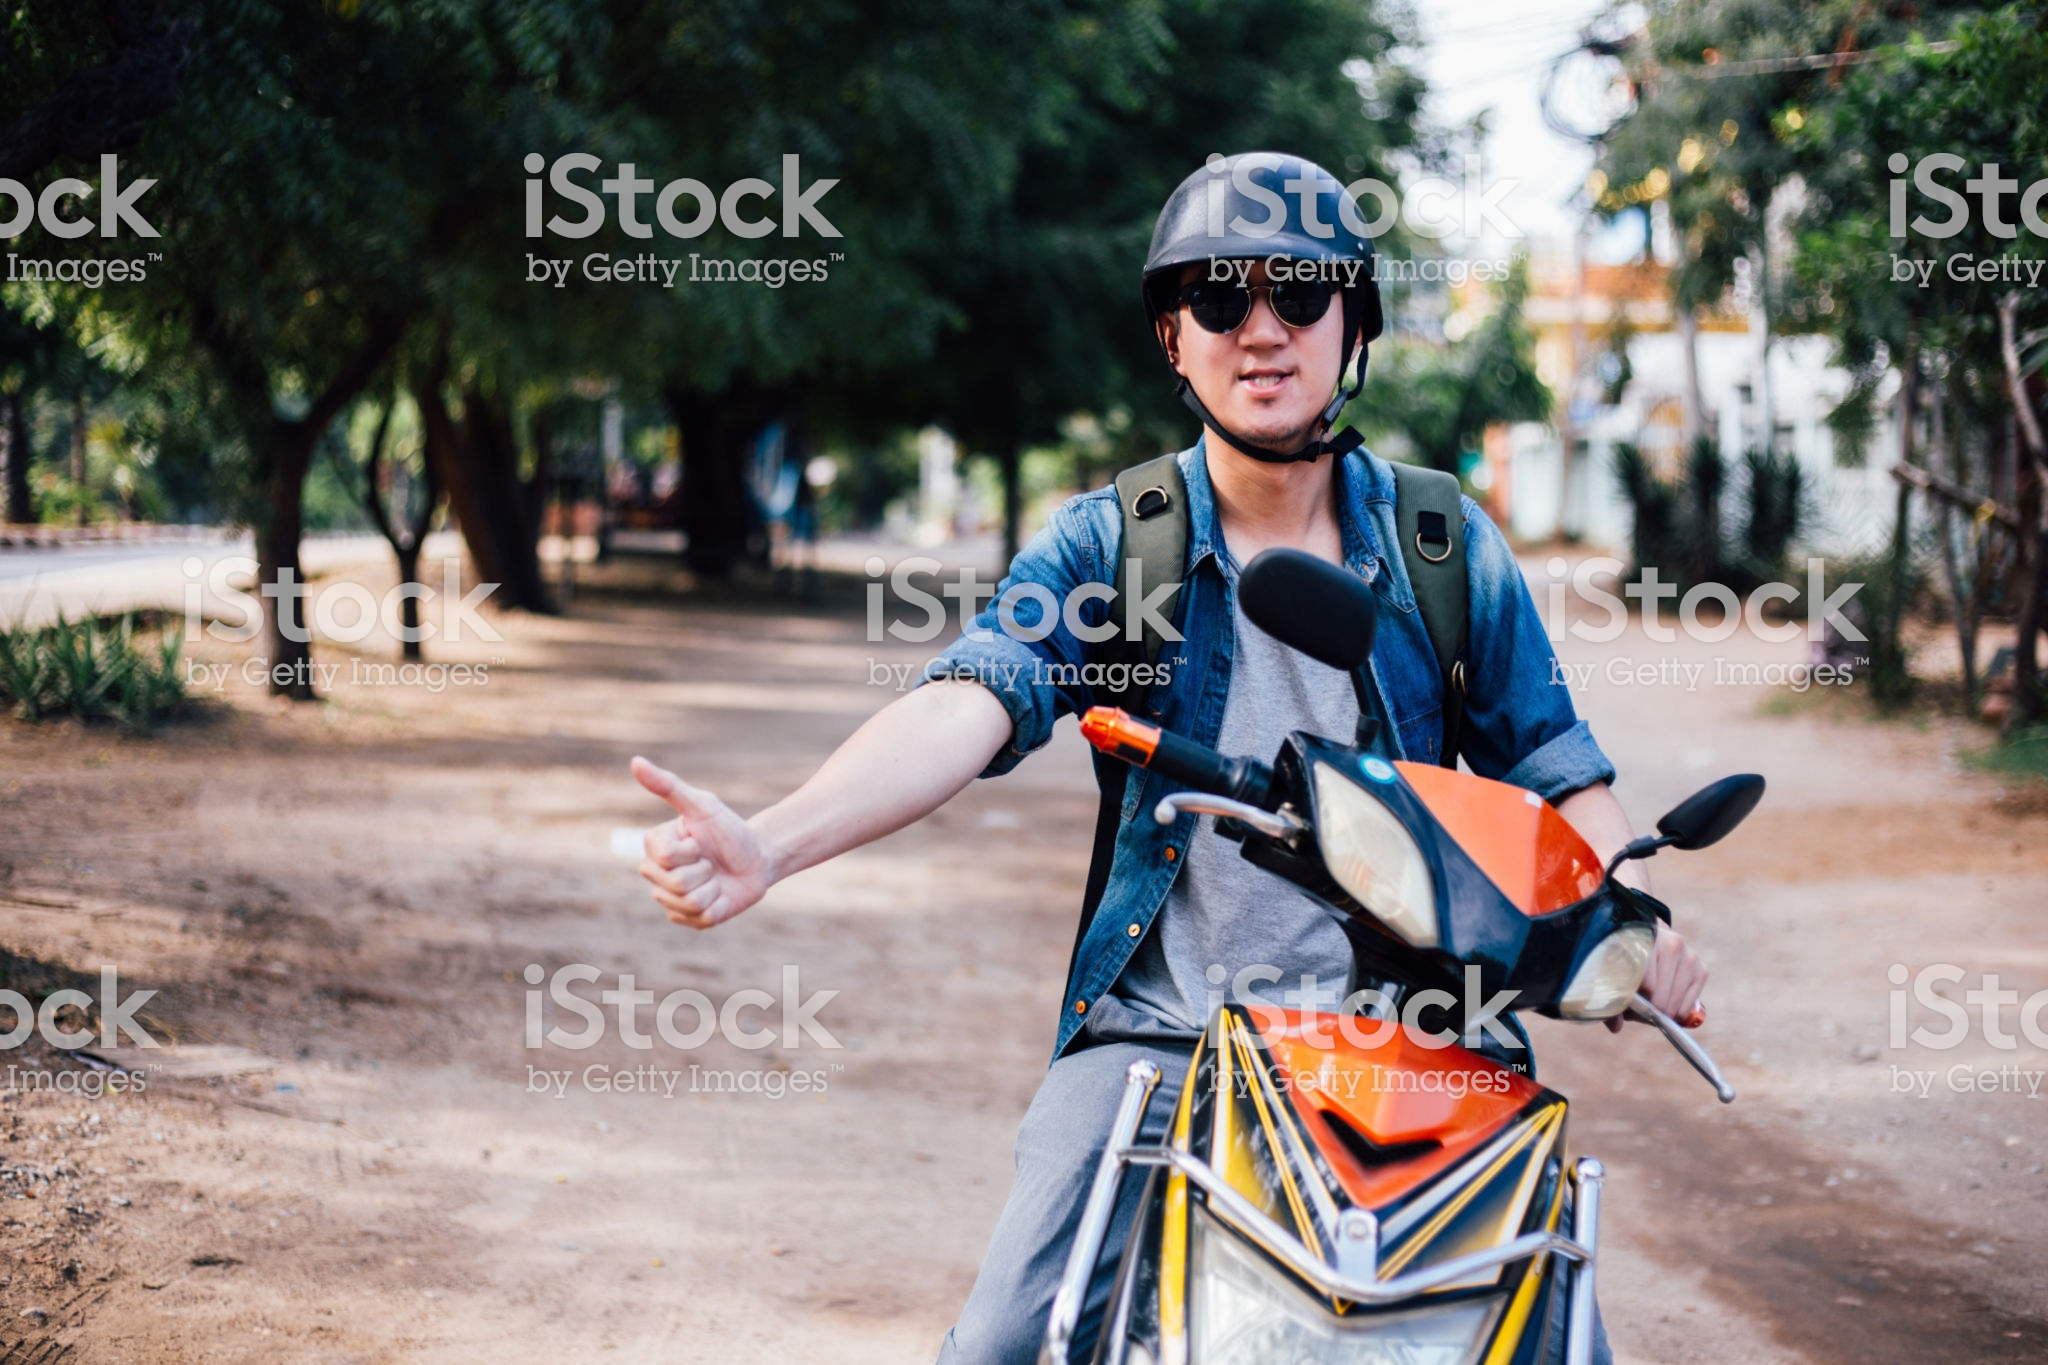helmet: (1142, 145, 1375, 318)
